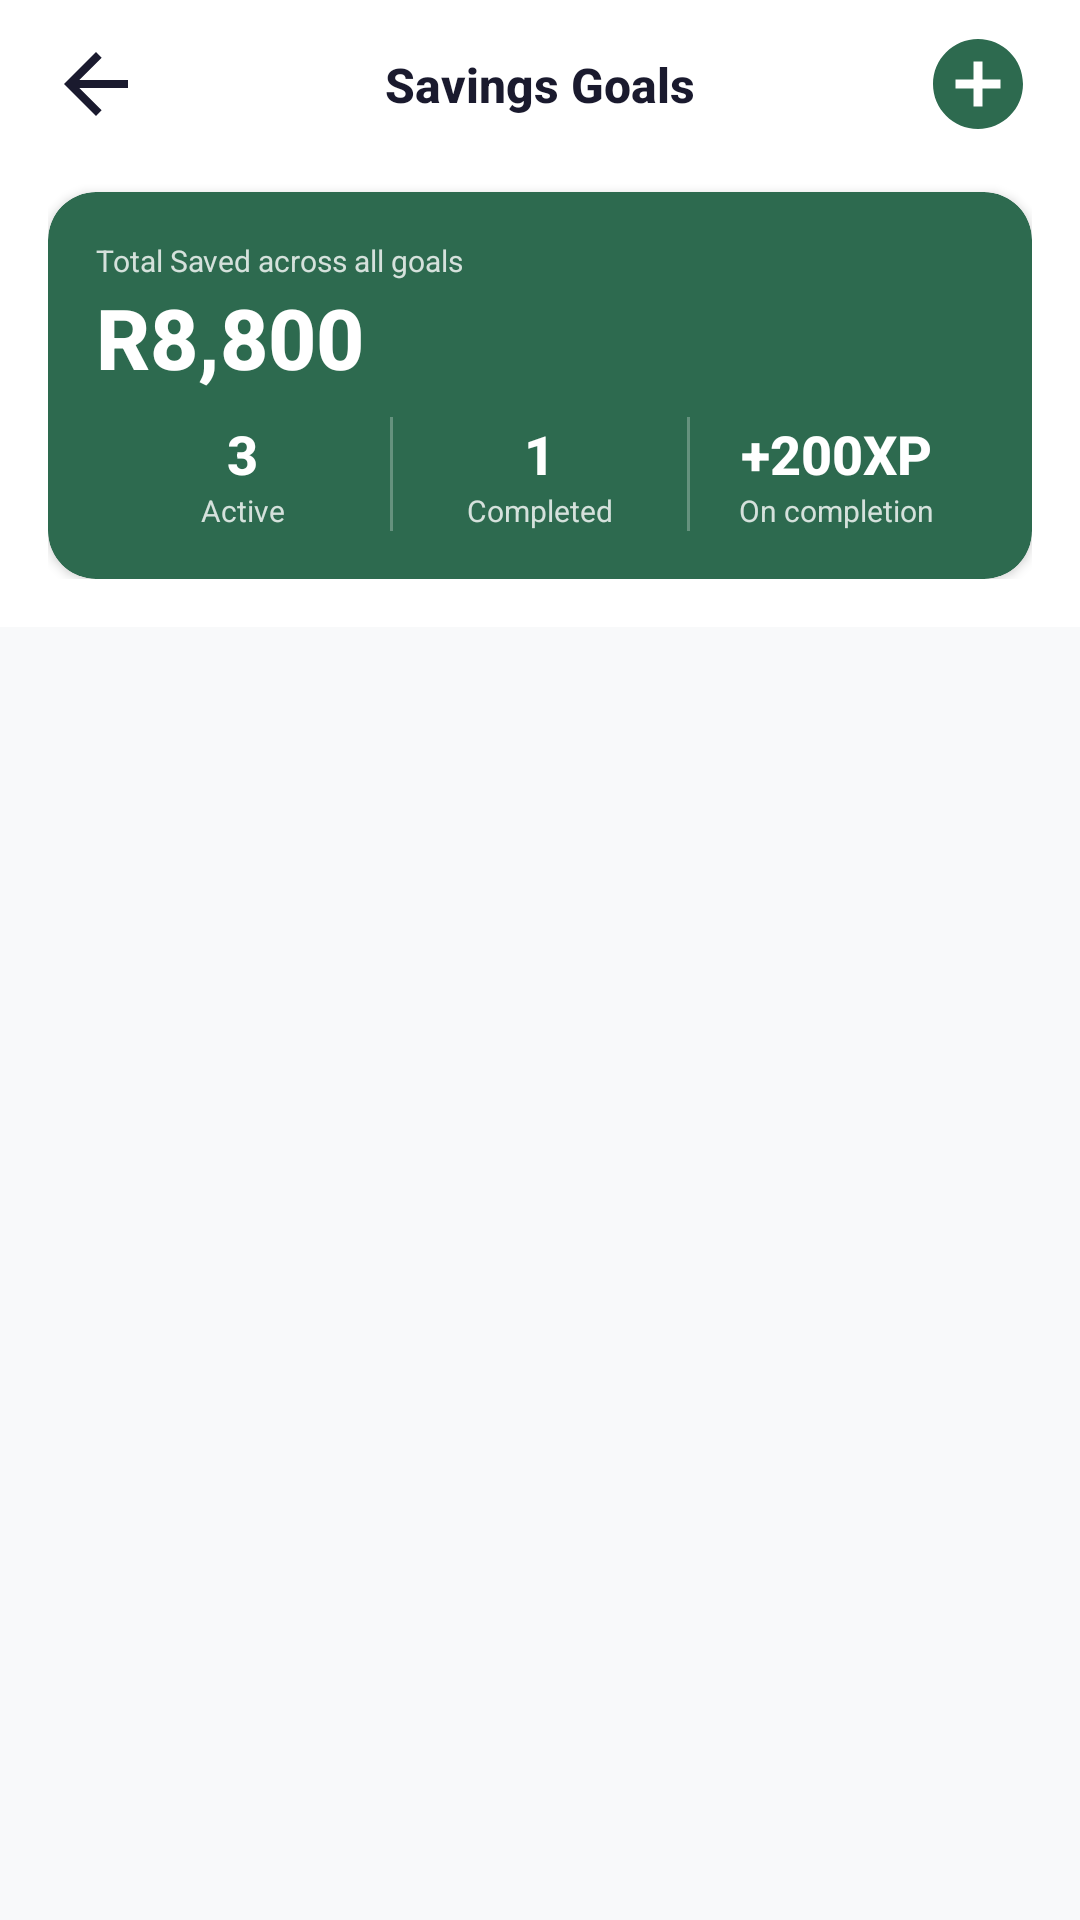

Screen size 1080w x 1920h. Icon name, then its center in pixels as point (x, y):
Add savings goal: point (978, 84)
Back: point (96, 84)
